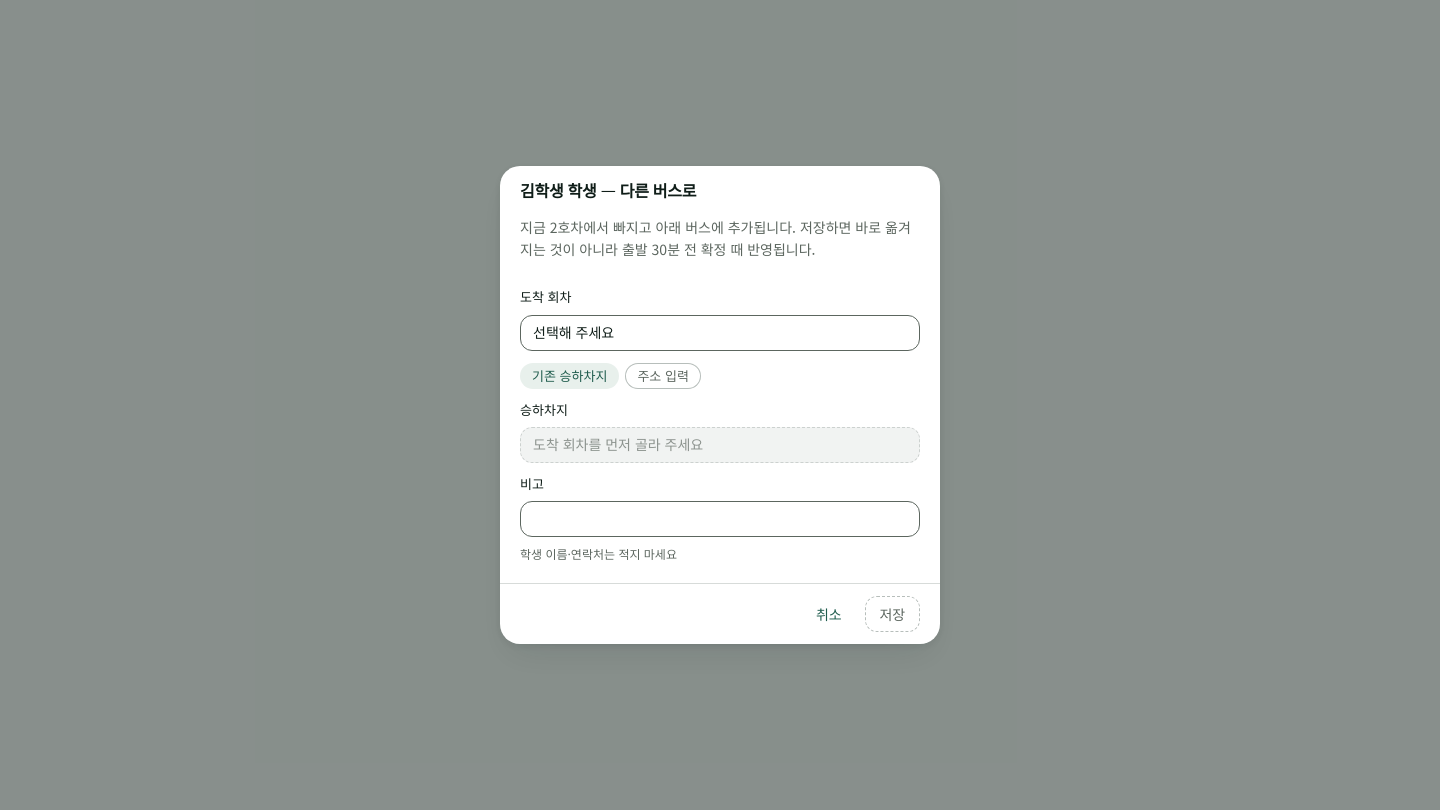
Scenario: StudentTransferDialog — 배타 입력·대기 저장·에러 › 409 RUN_CANCELED 는 쉬운 문구로 보여 주고 영문 코드는 화면에 내지 않는다
Step 1. Select "3호차 · 08:10 출발" in the dropdown labelled "도착 회차" → (720, 332), box [520,314,920,350]
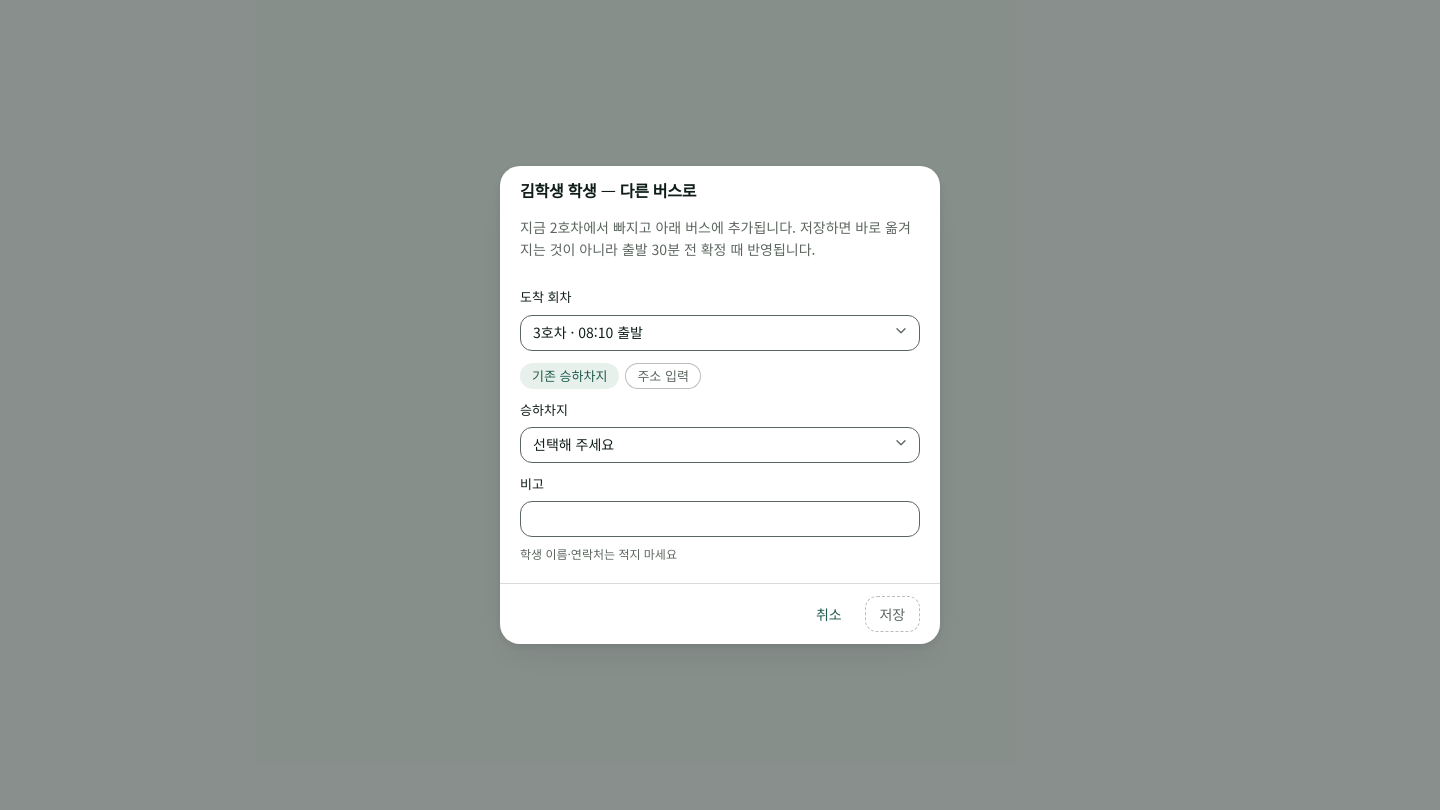
Step 2. Select "후문" in the dropdown labelled "승하차지" → (720, 445), box [520,427,920,463]
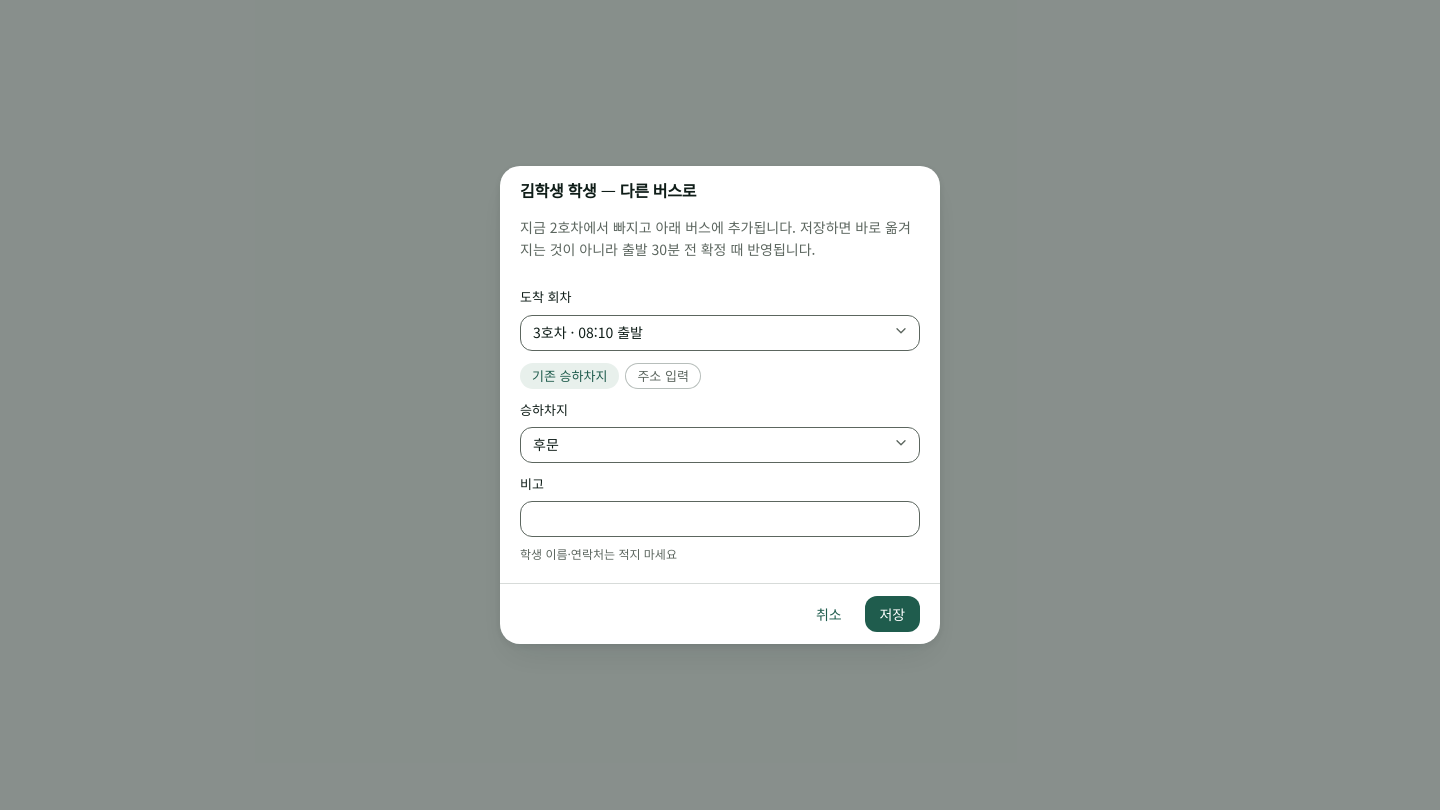
Step 3. Click the button "저장" → (892, 614), box [864,596,920,632]
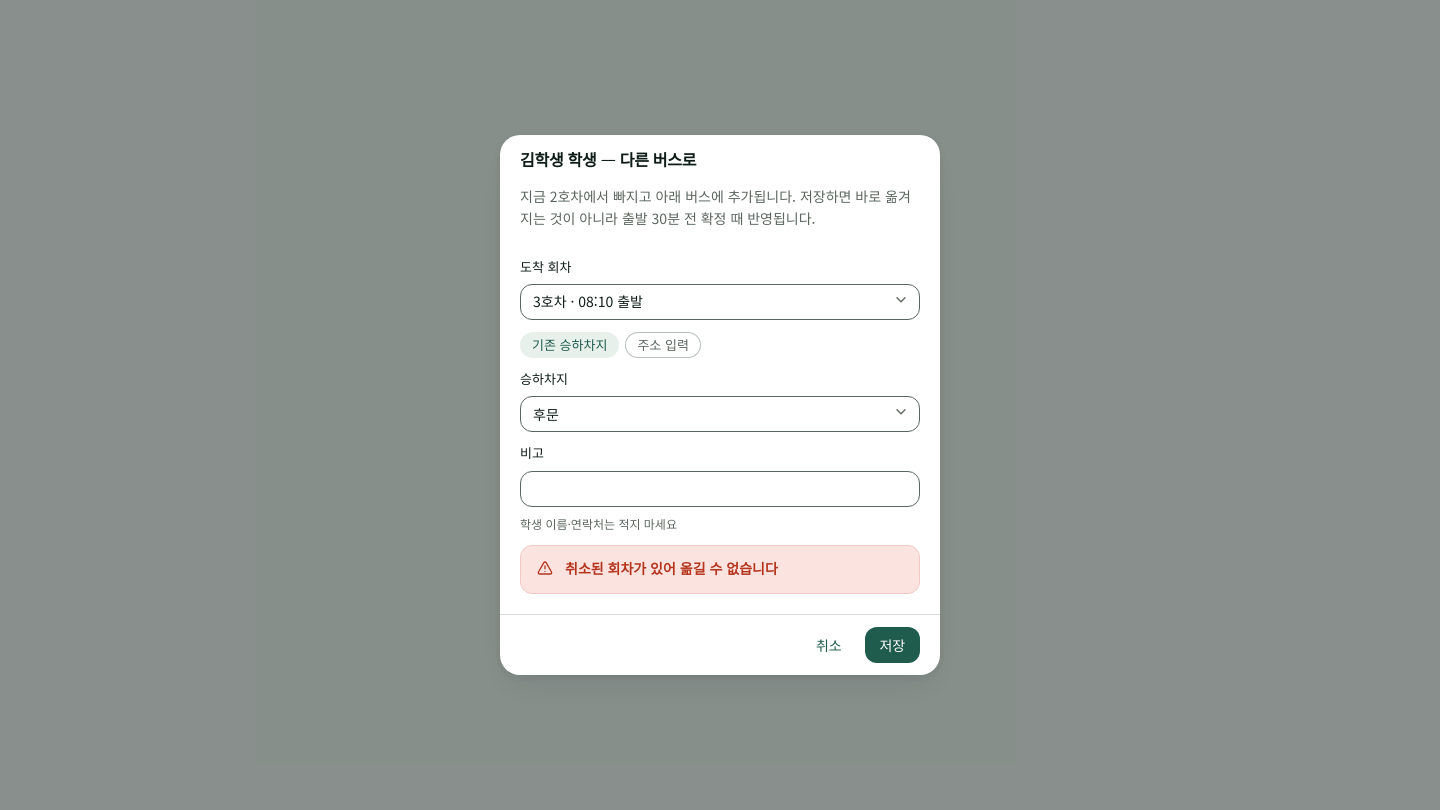
Result: the text "취소된 회차가 있어 옮길 수 없습니다" is shown at [565,558,778,578]
